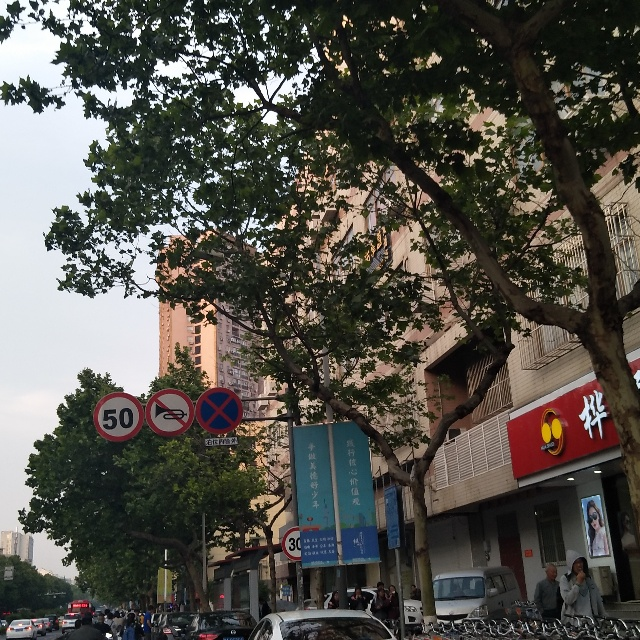nohonk: (144, 386, 196, 438)
stop: (197, 388, 243, 437)
